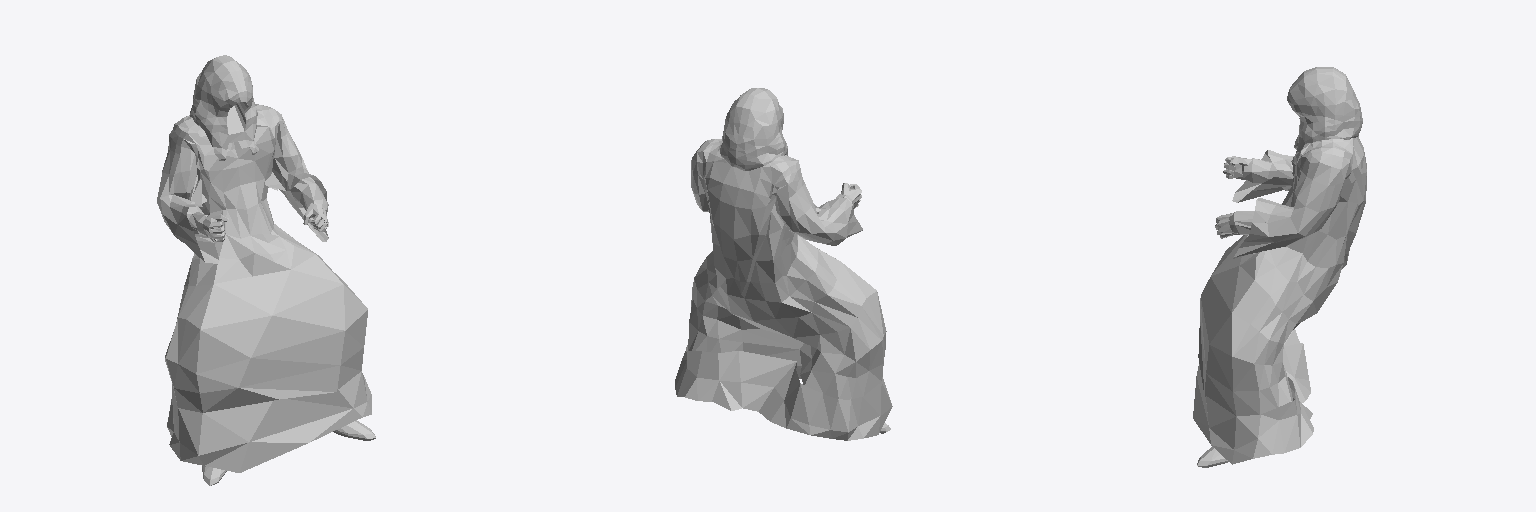
Rendered from Rider_Animate_Grab_Glide_27.obj.
The picture shows the model from 3 angles: view 1: azimuth 30°, elevation 25°; view 2: azimuth 150°, elevation 25°; view 3: azimuth 270°, elevation 25°; orthographic projection.
Visible parts, largest first — view 1: dm_nazgulrobe_ride_241108; view 2: dm_nazgulrobe_ride_241108; view 3: dm_nazgulrobe_ride_241108.
Boxes of the visible parts, <box> form: dm_nazgulrobe_ride_241108: <box>157,55,375,485</box>; dm_nazgulrobe_ride_241108: <box>675,88,892,440</box>; dm_nazgulrobe_ride_241108: <box>1193,67,1366,467</box>.
Bounding box in the file's own units: 0.3825 × 0.6554 × 0.2827.